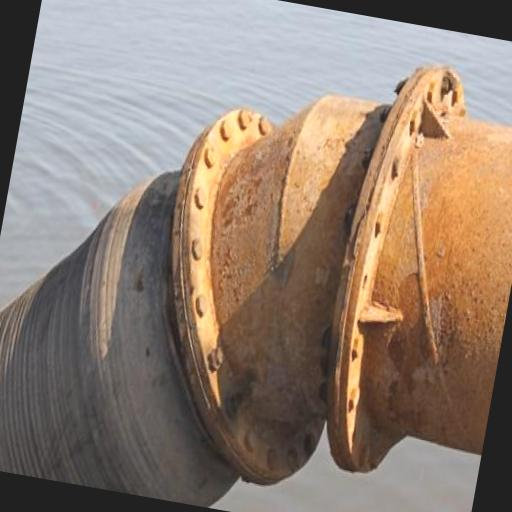segmentation: (0, 114, 366, 506), (328, 68, 512, 464), (172, 103, 323, 484)
